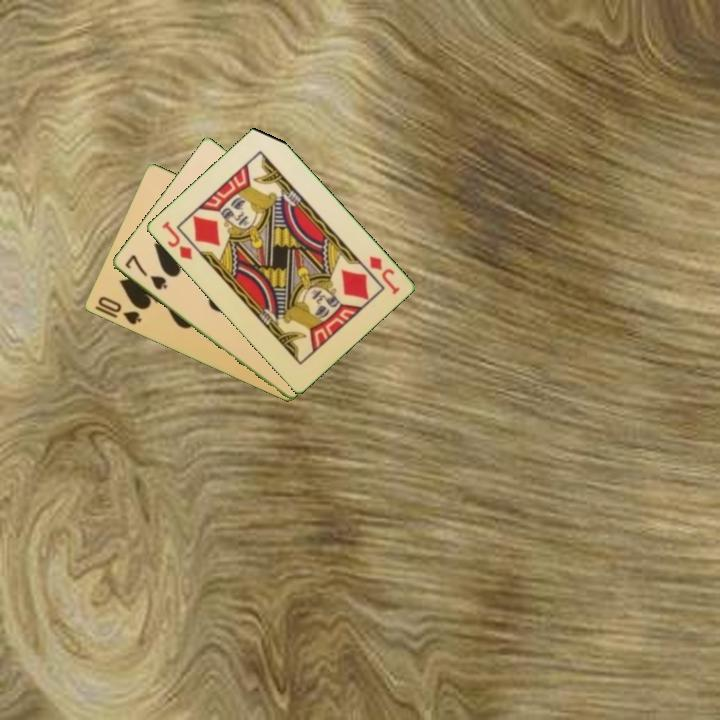10s: (94, 293, 144, 328)
7s: (121, 251, 170, 293)
Jd: (158, 218, 195, 263), (365, 252, 402, 297)
